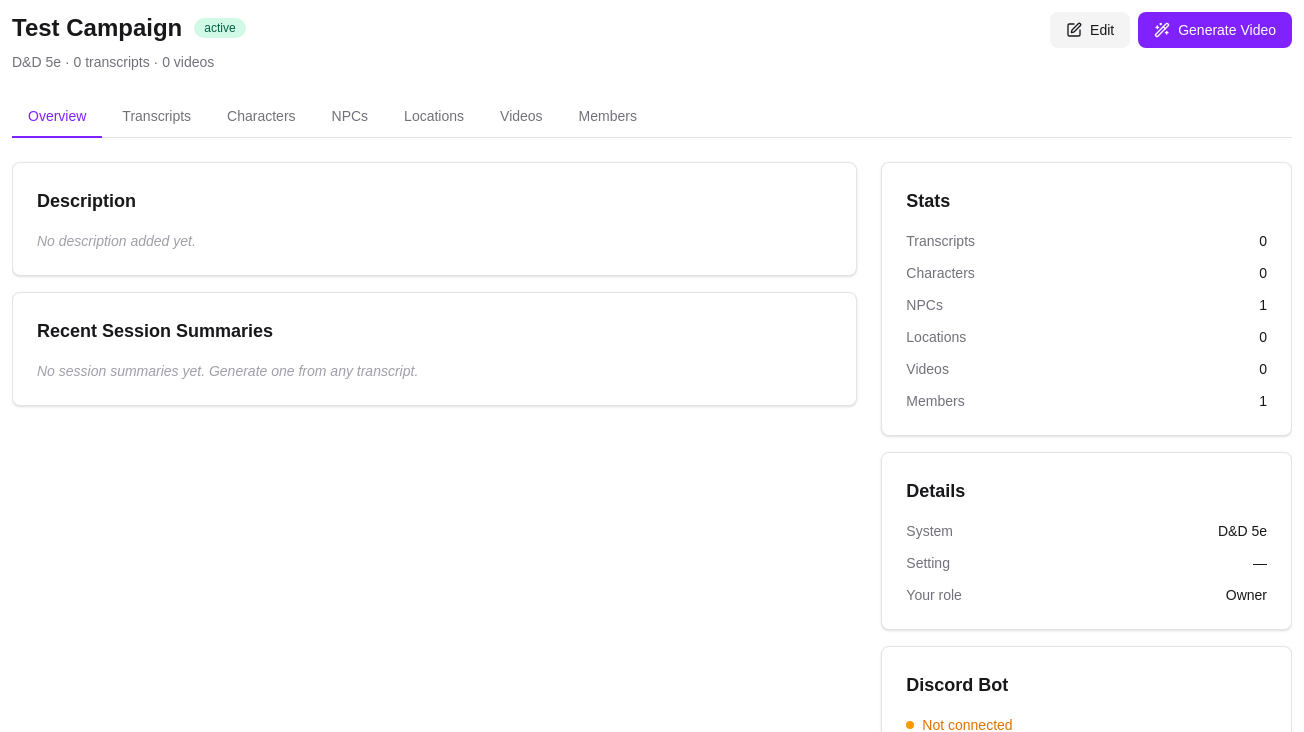
Scenario: CampaignDetailTabs — tab content › renders NPC cards when NPCs exist
Click the button "NPCs".
click(350, 117)  # box [316, 96, 384, 138]
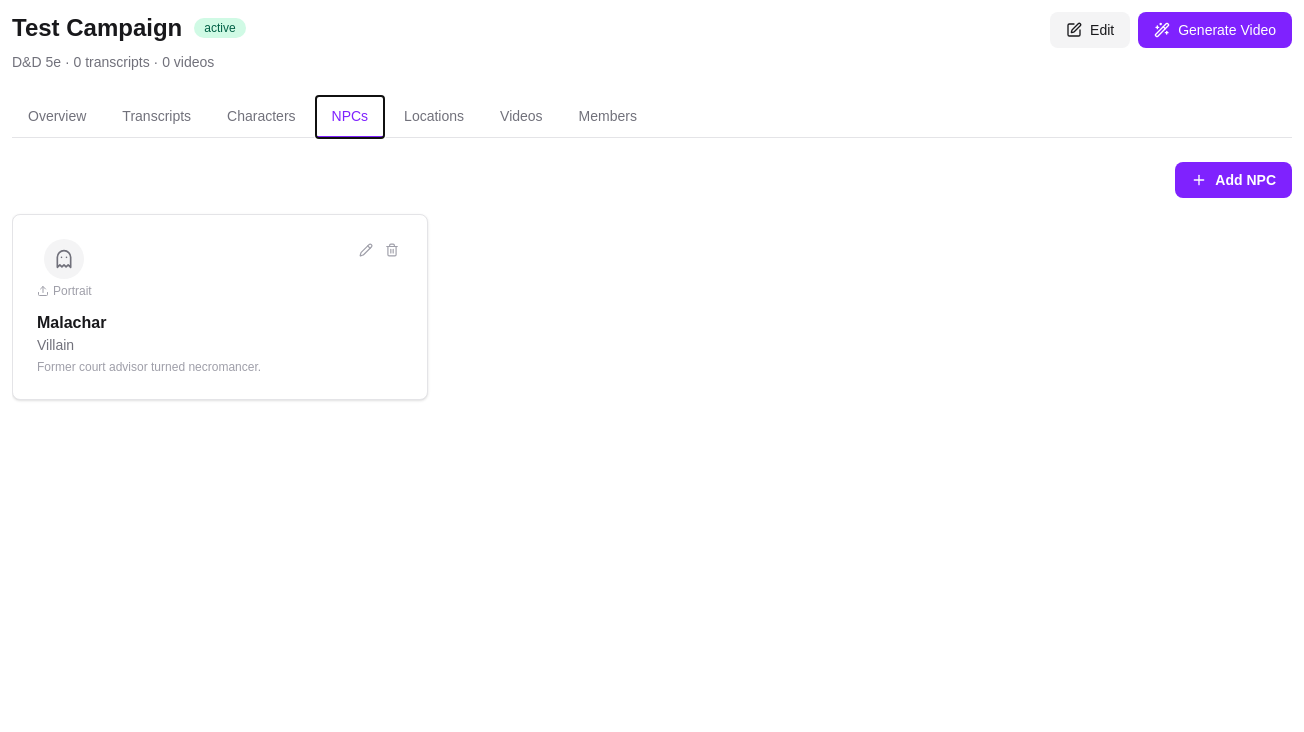
Check: the heading "Malachar" is shown, box [37, 314, 106, 331]
